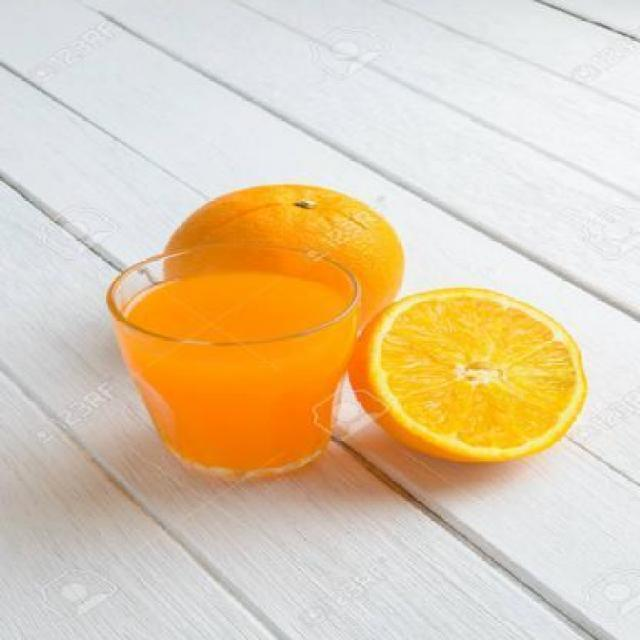Jeruk Sudah Matang: (158, 184, 406, 350)
